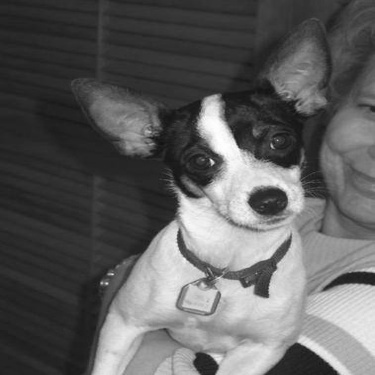dog: (62, 13, 341, 373)
